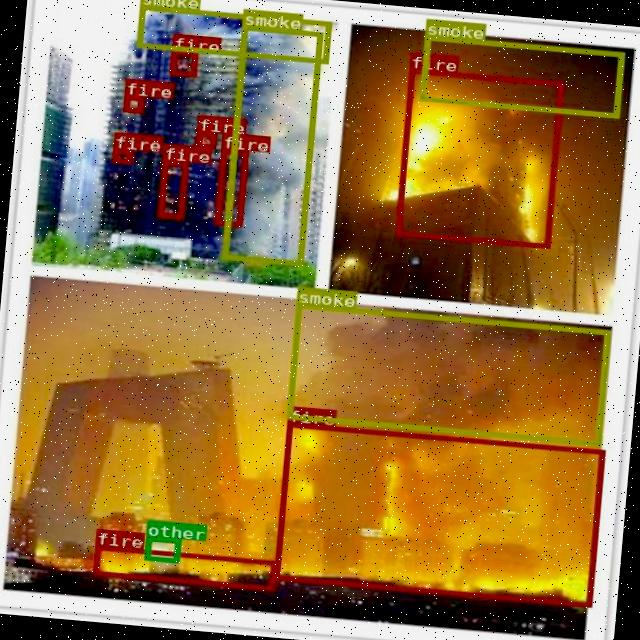fire: (272, 422, 604, 606), (393, 67, 562, 246), (92, 544, 276, 590), (214, 147, 246, 226), (156, 158, 188, 218), (169, 49, 196, 75), (121, 94, 142, 112), (196, 130, 216, 148), (111, 147, 131, 163)
smoke: (286, 302, 609, 445), (220, 24, 322, 265), (418, 34, 623, 116), (134, 4, 330, 63)
